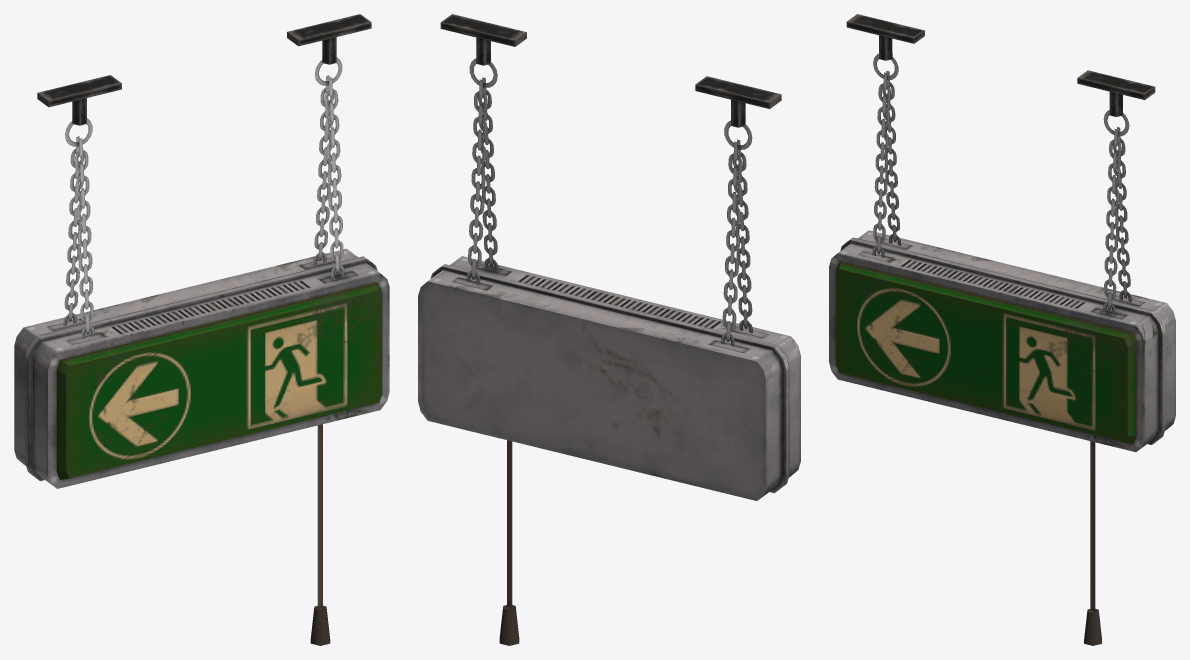
The model's file is EmergencyEscape.fbx.
The picture shows the model from 3 angles, left to right: view 1: azimuth 30°, elevation 25°; view 2: azimuth 150°, elevation 25°; view 3: azimuth 330°, elevation 25°; orthographic projection. The views are drawn at different scales.
Parts seen in each view (by area): view 1: EmergencyExitLight; view 2: EmergencyExitLight; view 3: EmergencyExitLight.
Part boxes in pixels (bbox=[...]): EmergencyExitLight: bbox=[14, 14, 389, 645]; EmergencyExitLight: bbox=[418, 14, 800, 645]; EmergencyExitLight: bbox=[829, 14, 1175, 645].
Bounding box in the file's own units: 1.21 × 2 × 0.2357.
